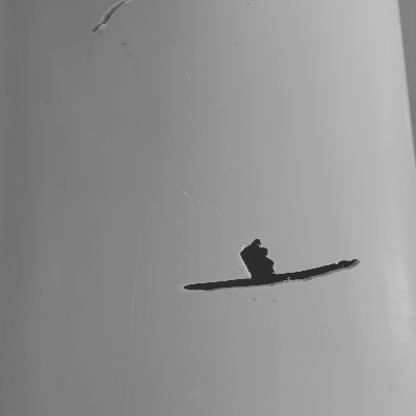fengxi: (183, 258, 359, 294), (95, 1, 134, 32)
kongdong: (238, 238, 275, 279)
